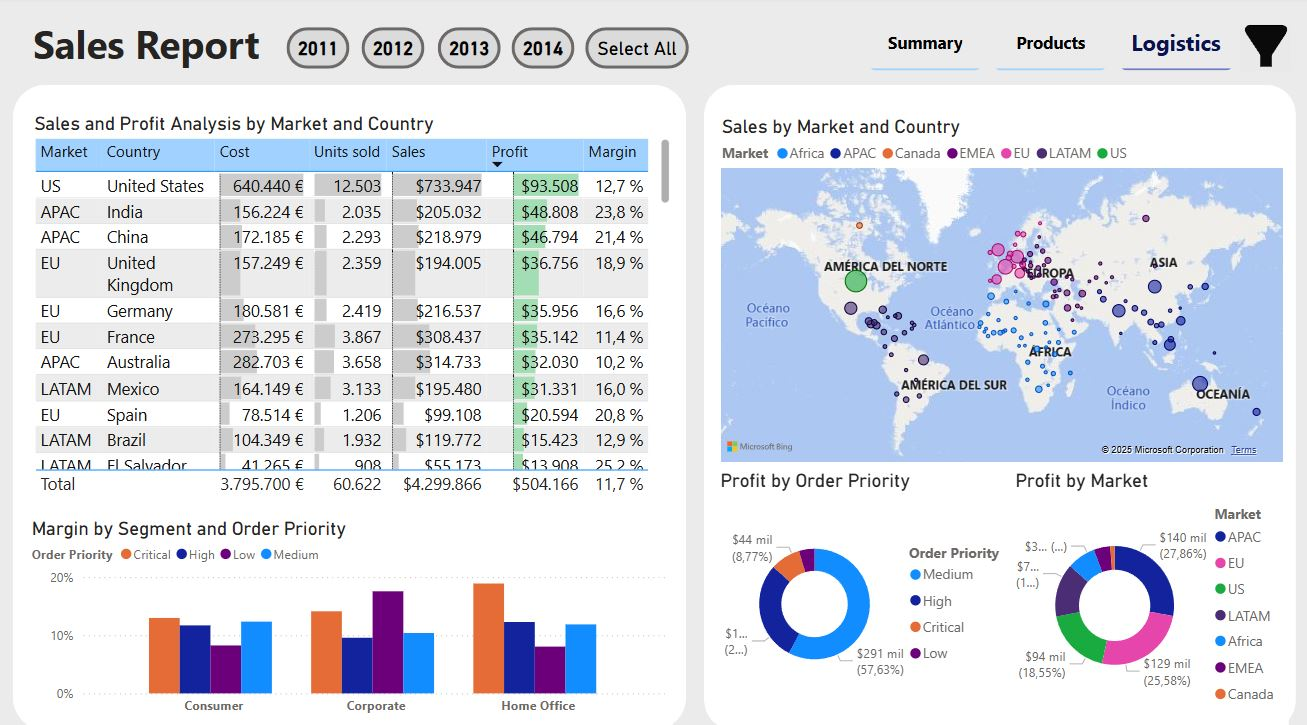

What the dashboard file says about the page in this screenshot:
{"tool":"powerbi","page":{"name":"Logistics","canvas":[1280,720],"ordinal":2},"visuals":[{"type":"group","id":"g1","title":"Slicer forma","box":[1207.6,28.2,49.9,41.2],"z":0},{"type":"shape","box":[1207.6,28.2,49.9,38],"z":0,"group":"g1"},{"type":"actionButton","box":[286.7,30,60.8,40],"z":0,"group":"g2"},{"type":"actionButton","box":[359.6,30,60.8,40],"z":1000,"group":"g2"},{"type":"shape","box":[1227,39.4,11.1,30],"z":1000,"group":"g1"},{"type":"shape","box":[690,85.7,571.4,622.9],"z":1000},{"type":"actionButton","box":[432.6,30,60.8,40],"z":2000,"group":"g2"},{"type":"shape","box":[22.9,85.7,650,622.9],"z":2000},{"type":"textbox","box":[37.1,15.7,250,67.1],"z":3000},{"type":"actionButton","box":[504.3,30,60.8,40],"z":3000,"group":"g2"},{"type":"tableEx","title":"Sales and Profit Analysis by Market and Country","fields":{"Values":["Global-Superstore.Market","Global-Superstore.Country","Global-Superstore.Suma de Sales menos Suma de Profit","Sum(Global-Superstore.Quantity)","Sum(Global-Superstore.Sales)","Sum(Global-Superstore.Profit)","Global-Superstore.Margin"]},"box":[38.3,111.7,623.3,375],"z":4000},{"type":"map","title":"Sales by Market and Country","fields":{"Size":["Sum(Global-Superstore.Sales)"],"Series":["Global-Superstore.Market"],"Category":["Global-Superstore.Country","Global-Superstore.State","Global-Superstore.City"]},"box":[701.8,115.6,551.3,338.8],"z":5000},{"type":"donutChart","title":"Profit by Market","fields":{"Y":["Sum(Global-Superstore.Profit)"],"Category":["Global-Superstore.Market"]},"box":[985.5,457.1,268.9,246.1],"z":6000},{"type":"donutChart","title":"Profit by Order Priority","fields":{"Y":["Sum(Global-Superstore.Profit)"],"Category":["Global-Superstore.Order Priority"]},"box":[700.5,457.1,285,243.4],"z":7000},{"type":"clusteredColumnChart","title":"Margin by Segment and Order Priority","fields":{"Category":["Global-Superstore.Segment"],"Y":["Global-Superstore.Margin"],"Series":["Global-Superstore.Order Priority"]},"box":[35.7,502.9,624.3,200],"z":8000},{"type":"pageNavigator","box":[848.2,17.4,354.6,55.6],"z":9000},{"type":"actionButton","title":"Abrir Slicer ","box":[1207.5,28.8,48.8,43.8],"z":10000},{"type":"group","id":"g2","title":"Grupo 1","box":[286.7,30,278.3,40],"z":12000},{"type":"actionButton","box":[575,30,100,40],"z":13000}]}

Visuals, with their boxes in screenshot pixels (x1, y1, x2, y2), scaled from the page's 1280x720 canvas onto the 1307x725 screenshot:
"Slicer forma" group: bbox(1233, 28, 1284, 70)
shape: bbox(1233, 28, 1284, 67)
actionButton: bbox(293, 30, 355, 70)
actionButton: bbox(367, 30, 429, 70)
shape: bbox(1253, 40, 1264, 70)
shape: bbox(705, 86, 1288, 714)
actionButton: bbox(442, 30, 504, 70)
shape: bbox(23, 86, 687, 714)
textbox: bbox(38, 16, 293, 83)
actionButton: bbox(515, 30, 577, 70)
"Sales and Profit Analysis by Market and Country" tableEx: bbox(39, 112, 676, 490)
"Sales by Market and Country" map: bbox(717, 116, 1280, 458)
"Profit by Market" donutChart: bbox(1006, 460, 1281, 708)
"Profit by Order Priority" donutChart: bbox(715, 460, 1006, 705)
"Margin by Segment and Order Priority" clusteredColumnChart: bbox(36, 506, 674, 708)
pageNavigator: bbox(866, 18, 1228, 74)
"Abrir Slicer " actionButton: bbox(1233, 29, 1283, 73)
"Grupo 1" group: bbox(293, 30, 577, 70)
actionButton: bbox(587, 30, 689, 70)
